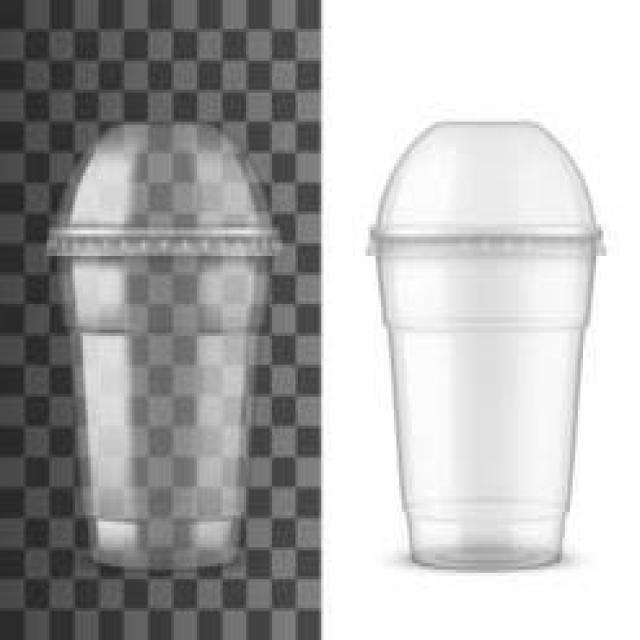cup: (362, 200, 610, 592), (46, 211, 294, 588)
